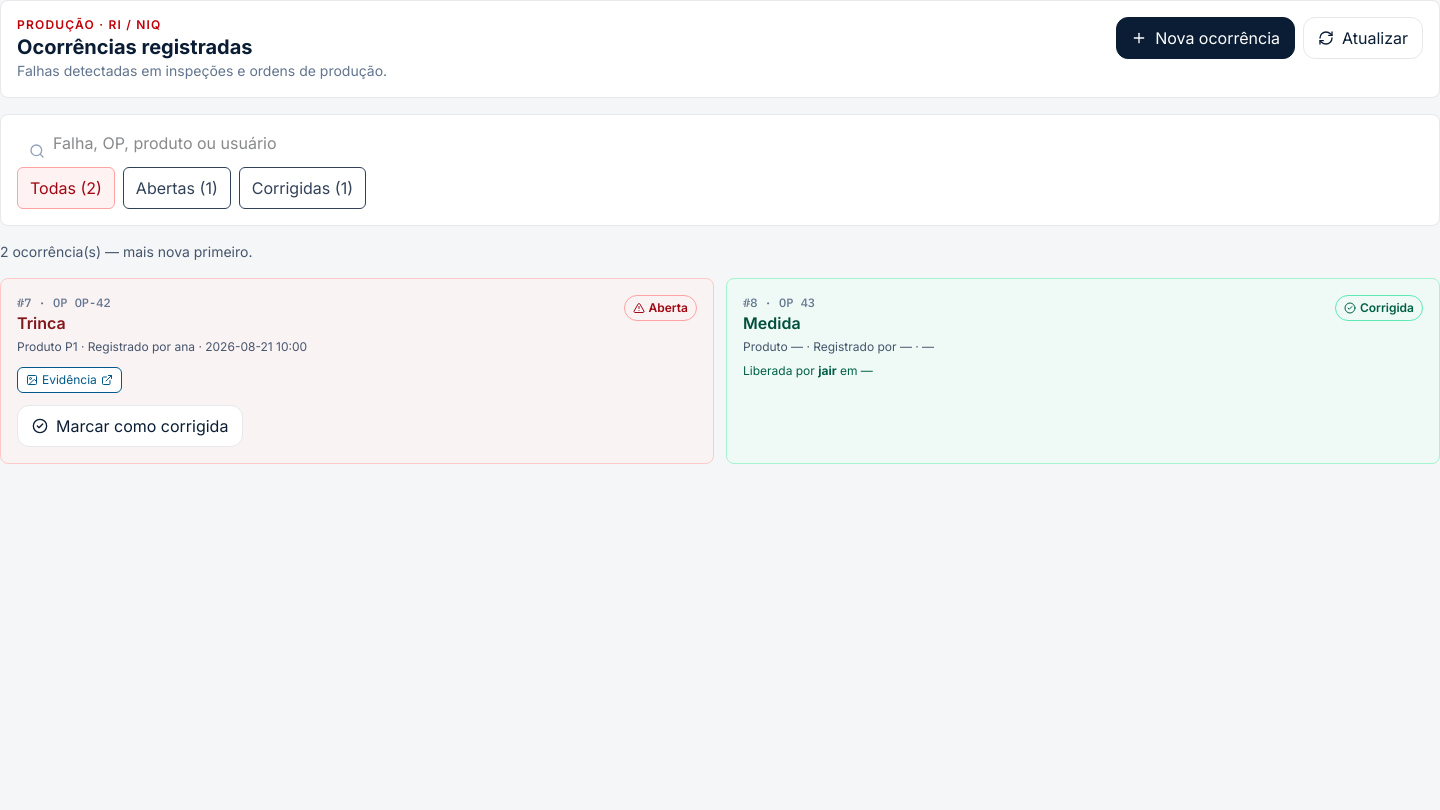
Test: ProductionIncidentsScreen › abre escrita somente com permissão e exige frase
Expected: the heading "Trinca" is shown, [17, 313, 66, 333]
Click the button "Marcar como corrigida" at (130, 426), box [17, 405, 243, 447]
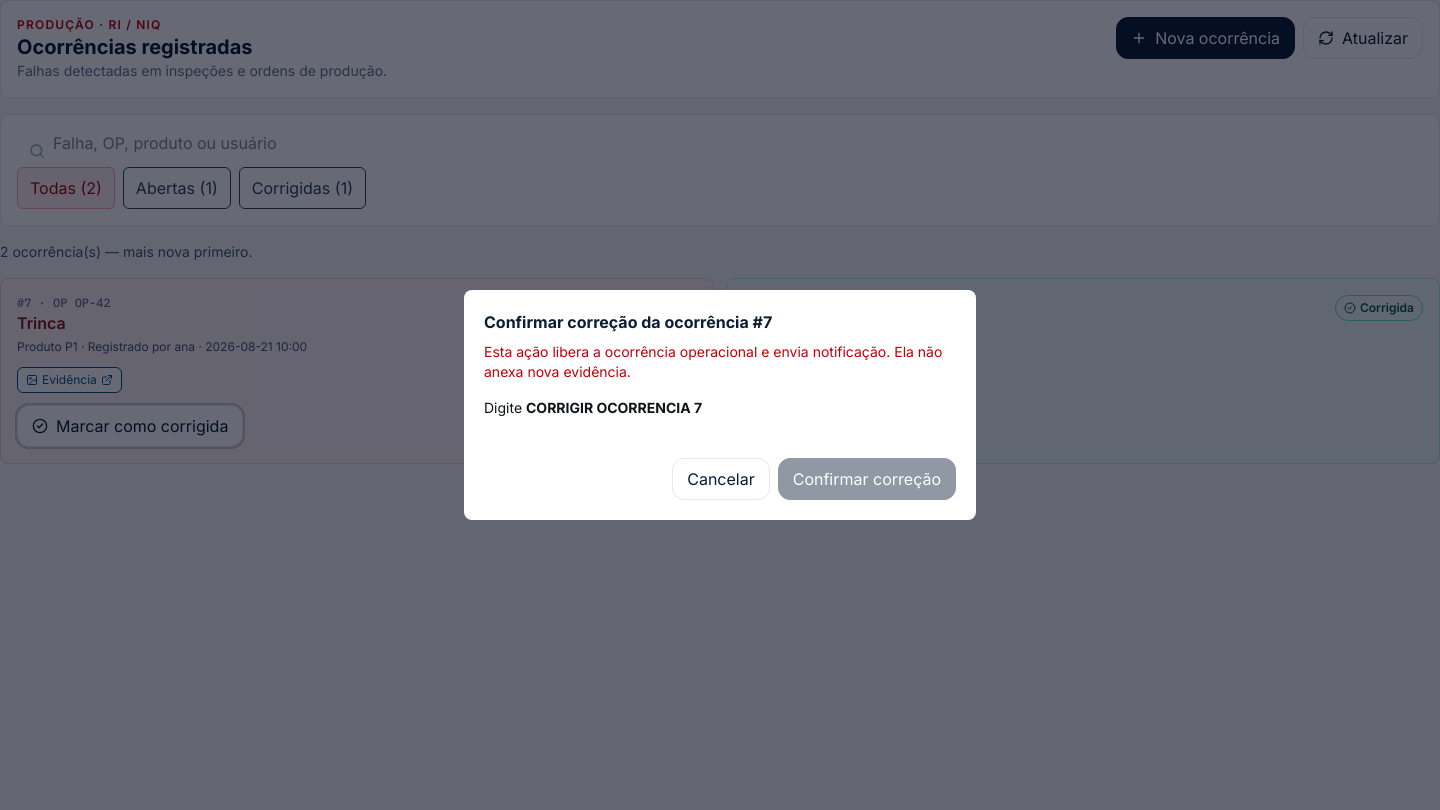
Expected: the button "Confirmar correção" is disabled, [778, 458, 956, 500]
